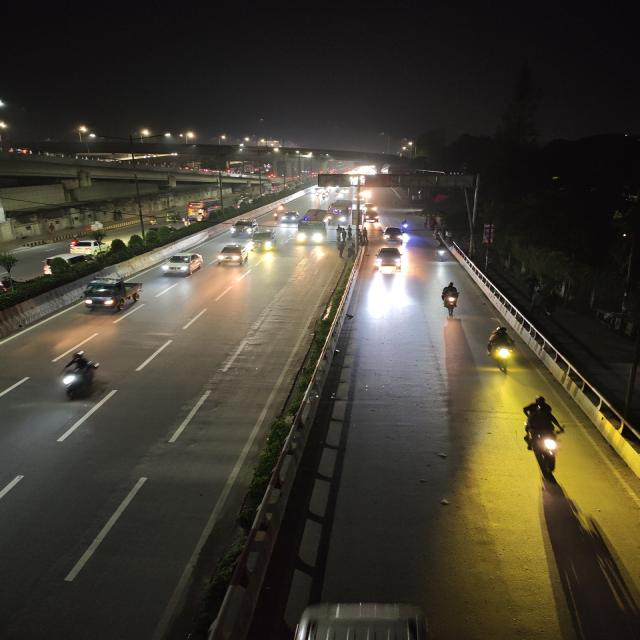bus: (295, 208, 330, 246), (186, 199, 222, 219), (329, 200, 354, 225)
car: (159, 251, 205, 279), (371, 247, 407, 276), (214, 244, 250, 268), (66, 236, 108, 254), (251, 228, 279, 254), (227, 218, 258, 238), (379, 226, 406, 245), (282, 210, 300, 224), (362, 210, 381, 223)
motorcycle: (516, 393, 571, 482), (52, 350, 105, 404), (483, 323, 520, 375), (438, 279, 463, 317), (432, 243, 451, 263), (400, 218, 413, 232), (272, 210, 281, 222)
pedestrian: (336, 241, 346, 259), (346, 225, 354, 240), (362, 227, 369, 242), (423, 217, 429, 228)
pickup_van: (78, 278, 146, 314)
truck: (327, 199, 354, 225)
